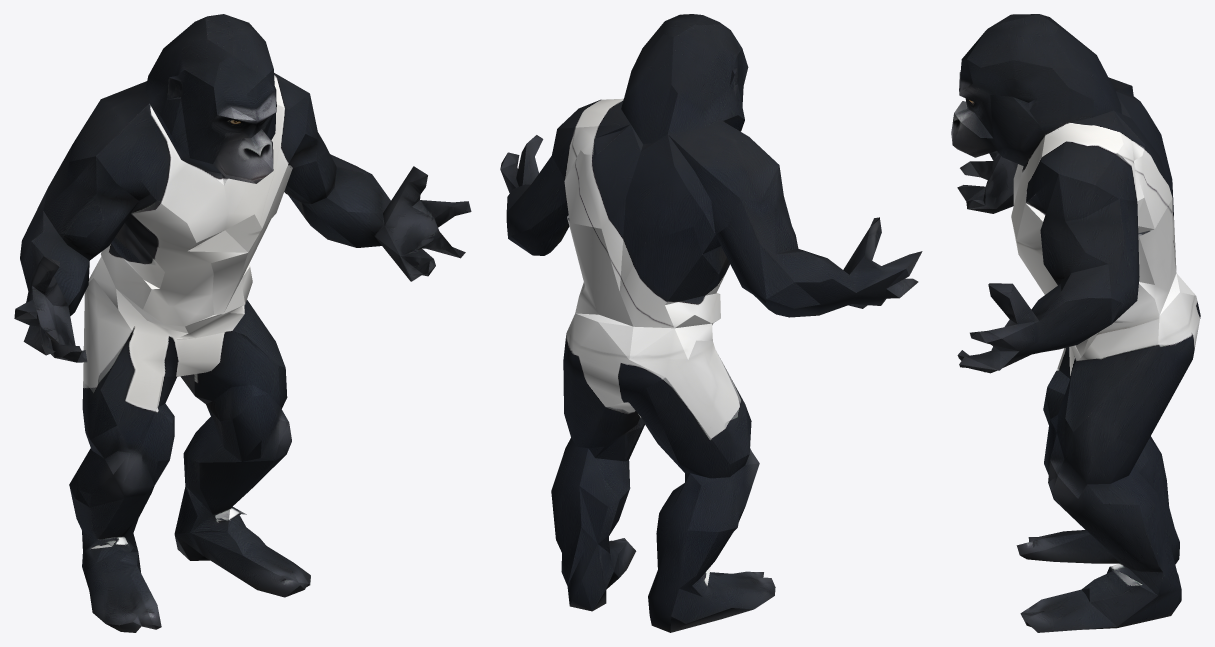
File: kongrath_lp2_final.glb
3 renders of one model, left to right at view 1: azimuth 30°, elevation 25°; view 2: azimuth 150°, elevation 25°; view 3: azimuth 270°, elevation 25°, orthographic. The views are drawn at different scales.
Bounding box in the file's own units: 1.49 × 1.89 × 0.7459.
1 material, 1 textured.
